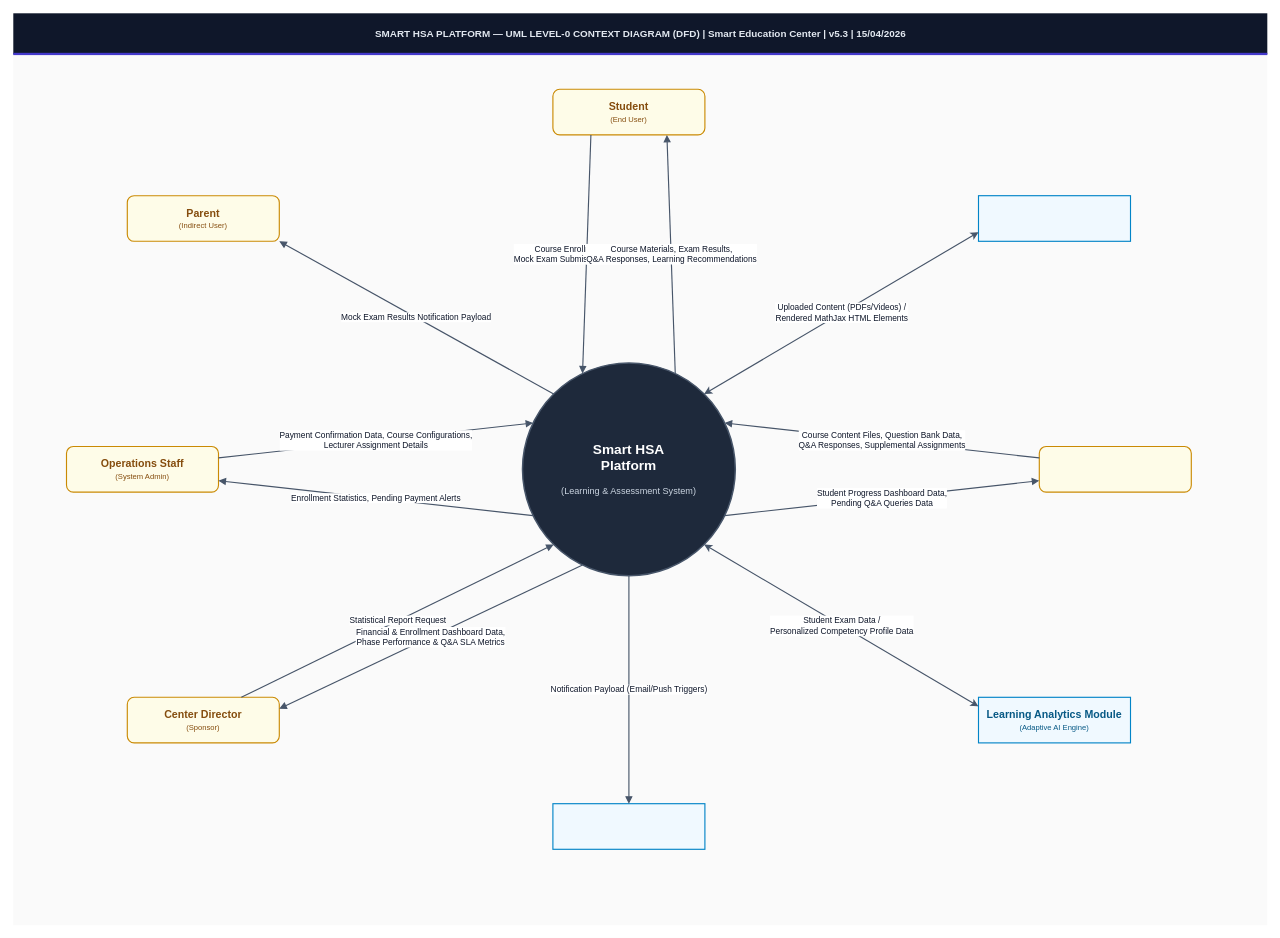
This 1280x938 diagram has some shape labels left out. The shapes that lost their labels are listed below. From the top down, each one's centre as x and y in pixels, then its label:
point 1054,218: Cloud Storage & CDN (External System)
point 1115,469: Lecturer (Key User)
point 628,826: Notification Service (Email & Push API)
